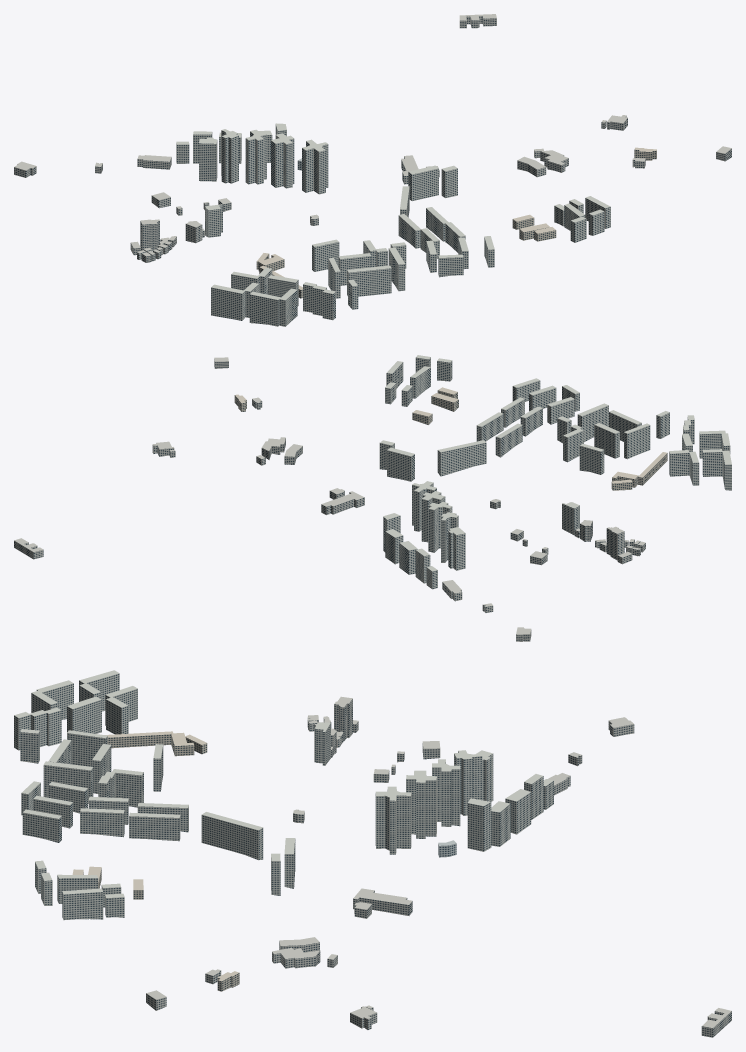
Rendered from city_-6_3.glb.
3 renders of one model, top to bottom at view 1: azimuth 30°, elevation 25°; view 2: azimuth 150°, elevation 25°; view 3: azimuth 270°, elevation 25°, orthographic. The views are drawn at different scales.
Size of the model in its own units: 1030 by 96.22 by 964.
Materials: 4 (4 with a texture image).
